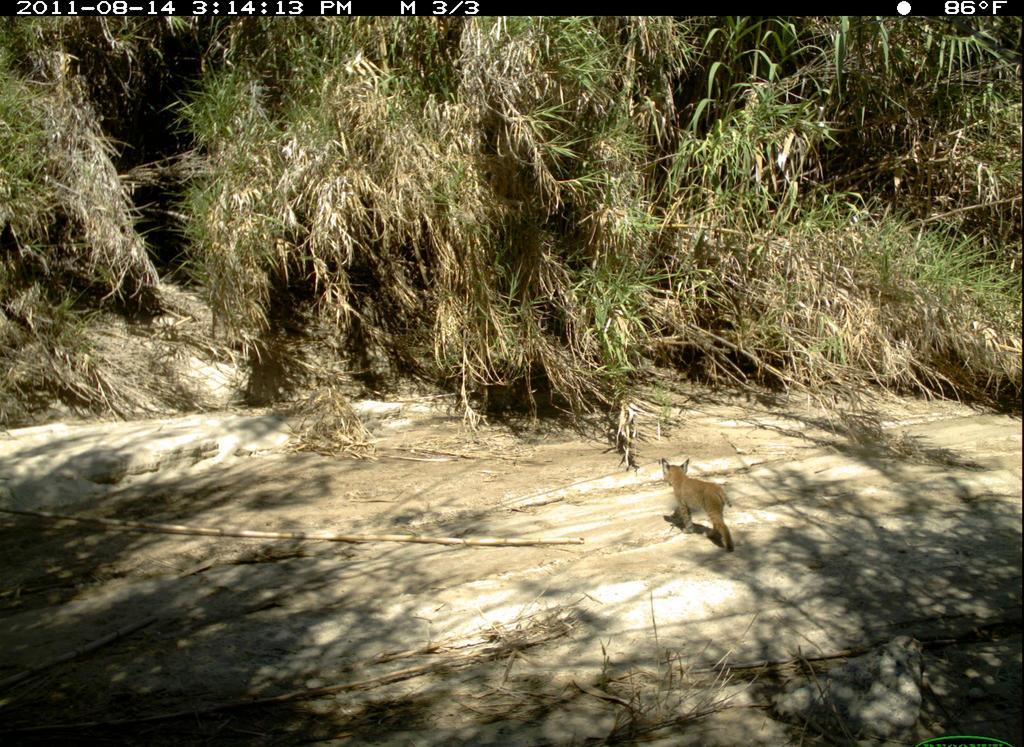bobcat: (656, 457, 742, 557)
